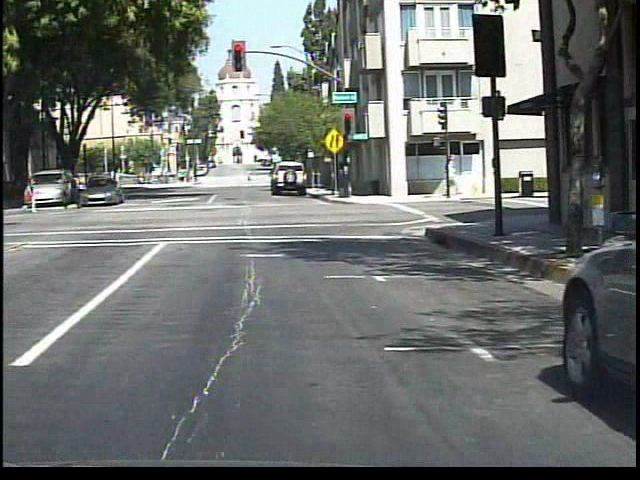person: (60, 170, 84, 216), (19, 177, 41, 217), (244, 169, 253, 187)
